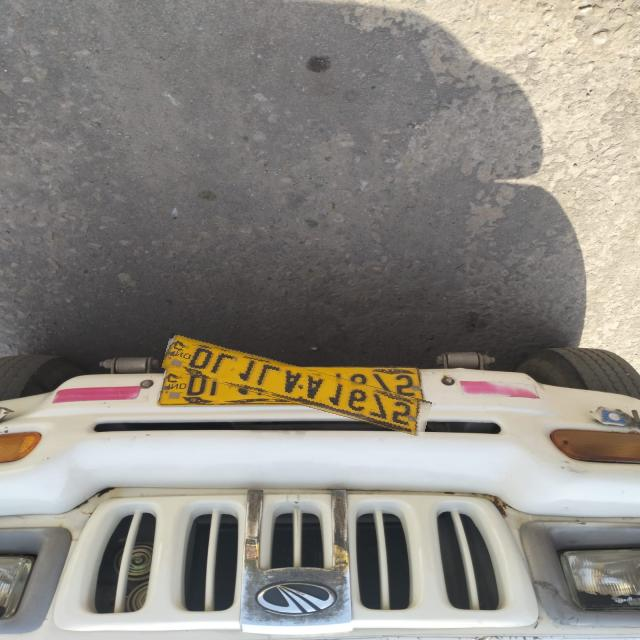License-plate: (161, 350, 432, 421)
